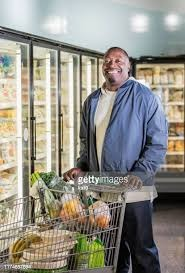with_basket: (1, 174, 123, 273)
without_mask: (100, 44, 130, 81)
